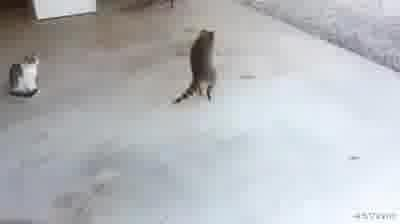raccoon: (170, 28, 223, 111)
